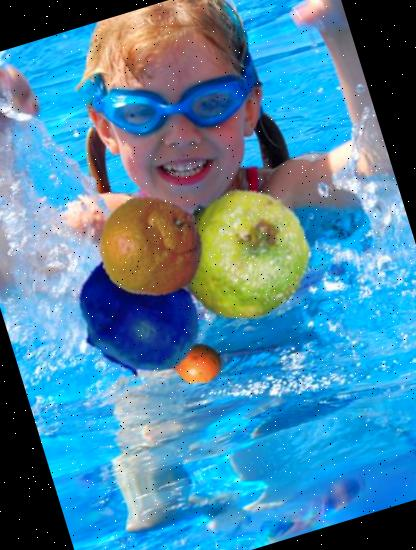Granadilla: (160, 329, 230, 399)
Huckleberry: (56, 234, 219, 398)
Limes: (158, 170, 326, 336)
Mandarine: (86, 181, 218, 312)
